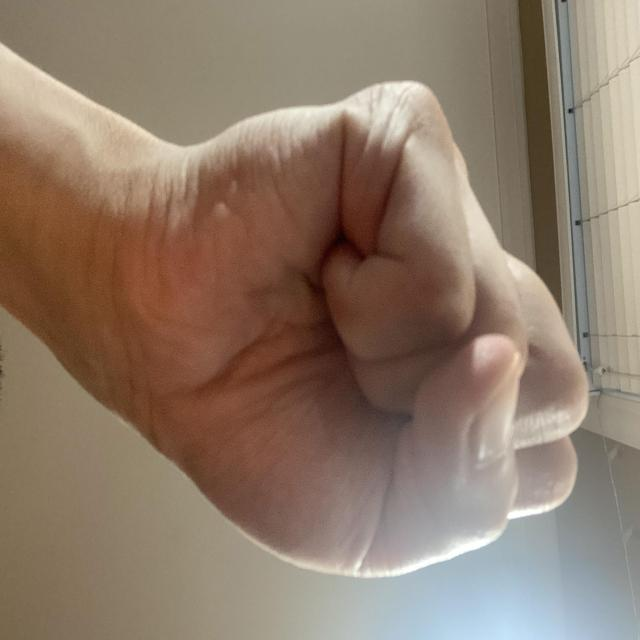S: (213, 52, 602, 640)
